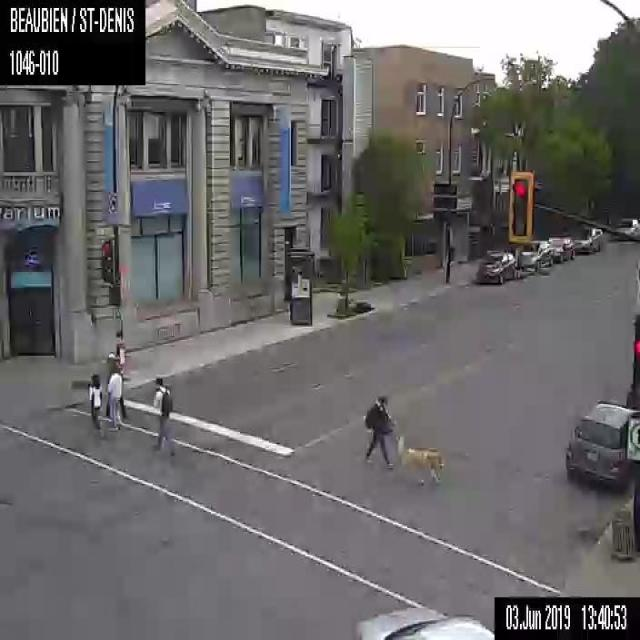pedestrian: (363, 394, 441, 486), (151, 375, 174, 456), (106, 360, 128, 431), (86, 371, 102, 436)
vehicle: (564, 397, 639, 491), (354, 604, 494, 639), (472, 247, 514, 285), (506, 244, 538, 278), (609, 214, 639, 242), (572, 226, 602, 253), (522, 239, 552, 265), (547, 234, 574, 261)
